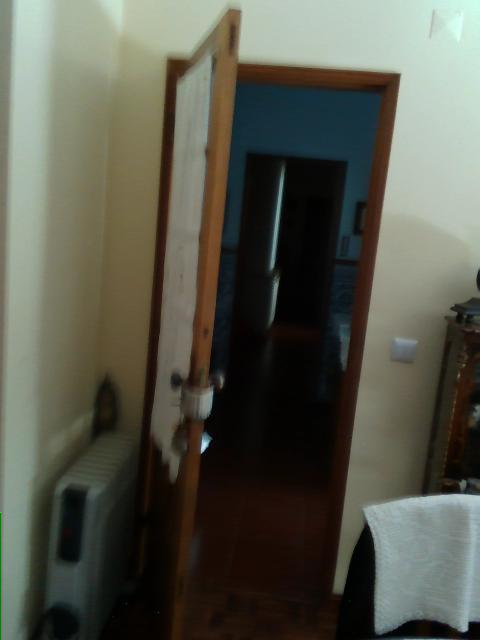semi_door: (133, 5, 403, 639)
